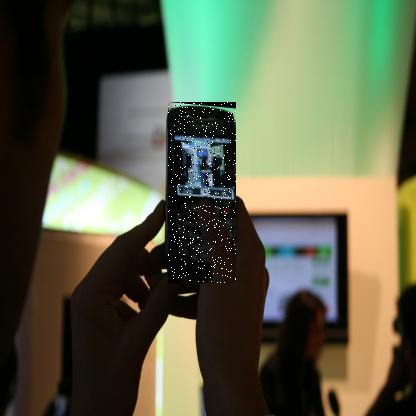Camera: (169, 104, 238, 286)
